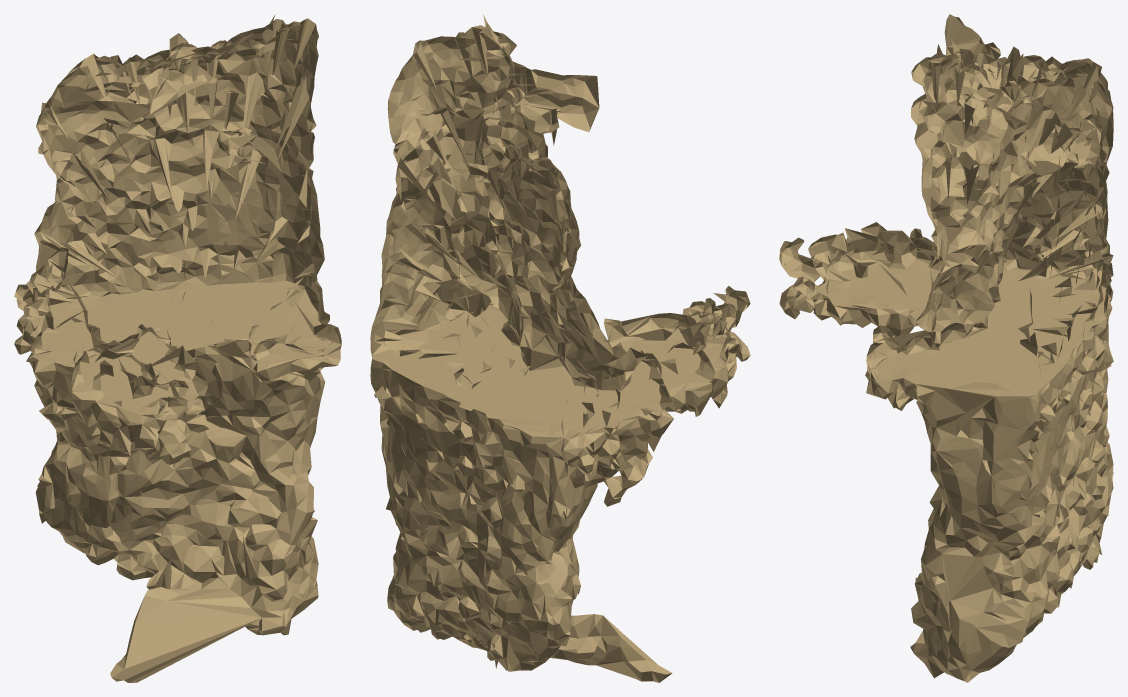
Rendered from improved.glb.
The picture shows the model from 3 angles, left to right: view 1: azimuth 30°, elevation 25°; view 2: azimuth 150°, elevation 25°; view 3: azimuth 270°, elevation 25°; orthographic projection.
Visible parts, largest first — view 1: world; view 2: world; view 3: world.
Part boxes in pixels (box(x1,y1,x2,y2)): world: box(14, 14, 341, 682); world: box(370, 14, 750, 682); world: box(779, 14, 1113, 682).
Size of the model in its own units: 0.55 by 1.18 by 0.5636.
